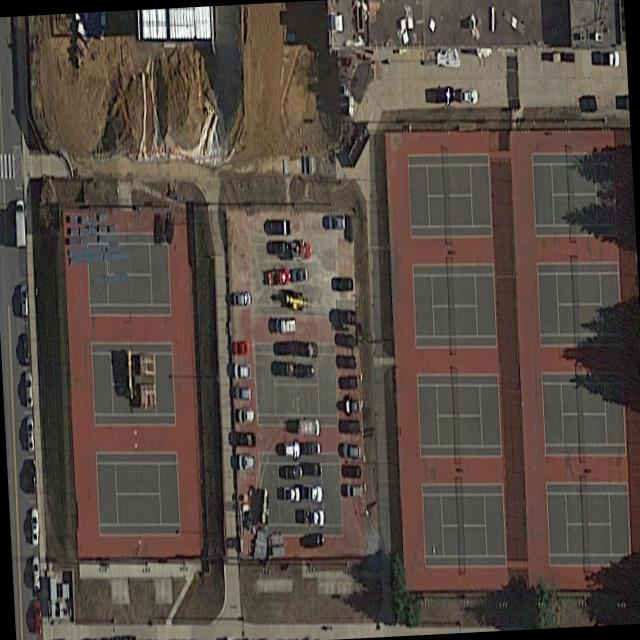small-vehicle: (15, 196, 27, 248), (267, 265, 291, 287), (263, 216, 292, 234), (291, 238, 312, 262), (301, 481, 323, 503), (297, 417, 321, 437), (332, 328, 355, 348), (234, 429, 256, 449), (598, 48, 620, 68), (32, 596, 43, 635), (331, 308, 356, 325), (281, 483, 301, 504), (267, 239, 291, 256), (304, 508, 325, 527), (337, 417, 359, 435), (459, 85, 479, 104), (31, 505, 40, 547), (433, 84, 454, 102), (25, 368, 34, 409), (26, 414, 35, 454), (28, 455, 37, 495), (337, 372, 357, 390), (238, 451, 255, 472), (332, 276, 354, 292), (327, 211, 345, 230), (283, 461, 302, 479), (276, 315, 296, 332), (302, 461, 322, 478), (300, 439, 321, 455), (19, 282, 28, 319), (32, 554, 41, 591), (335, 353, 357, 368), (234, 382, 252, 400), (342, 441, 360, 459), (234, 360, 251, 378), (346, 480, 363, 498), (283, 440, 301, 457), (232, 290, 251, 306), (344, 462, 361, 479), (238, 405, 254, 423), (232, 337, 250, 353), (22, 331, 30, 366), (581, 93, 597, 110), (291, 267, 309, 281), (345, 399, 362, 412)
